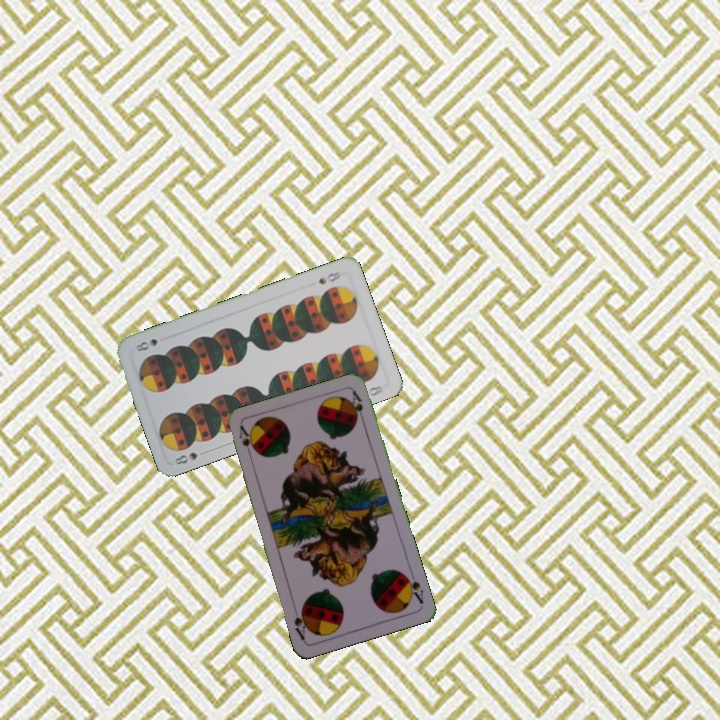S8: (171, 446, 210, 467), (314, 268, 343, 287)
SA: (400, 567, 426, 607), (235, 422, 256, 462)
